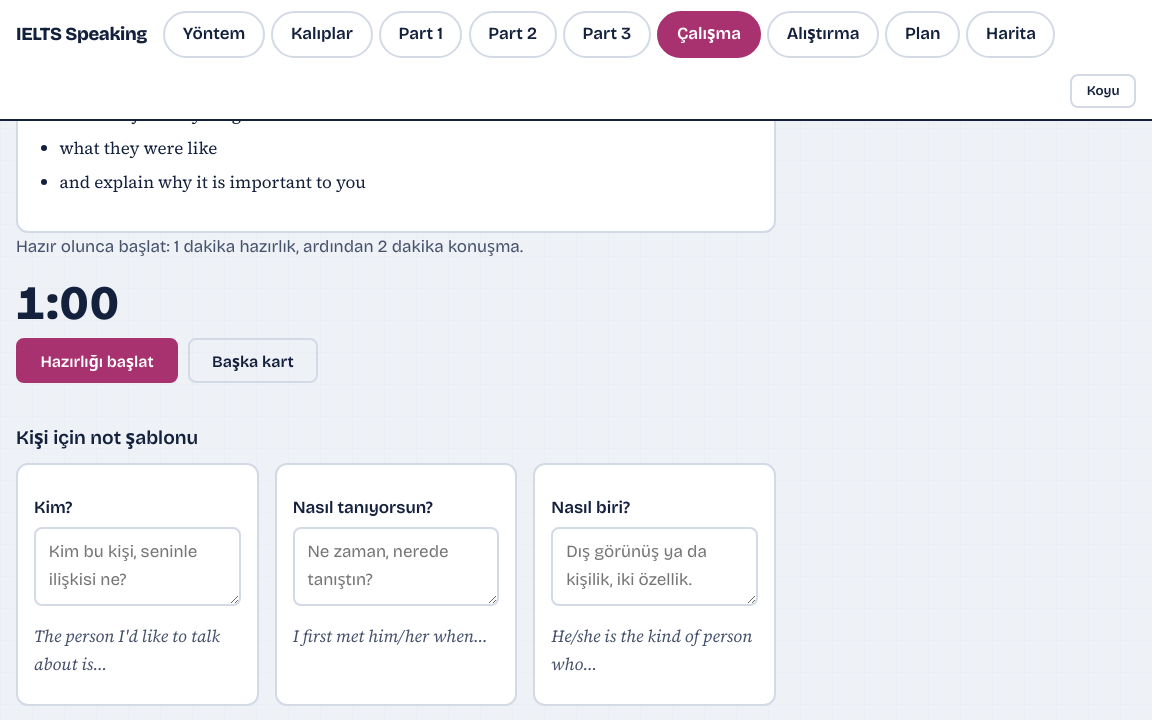
it: drill page › part 2: prep countdown moves into talking phase
The width and height of the screenshot is (1152, 720).
(page scrolled)
What coordinates should you click on to do the following:
click the button "Hazırlığı başlat"
I would click on:
 (97, 361)
Its box is [16,338,178,383].
Wait 61000 ms
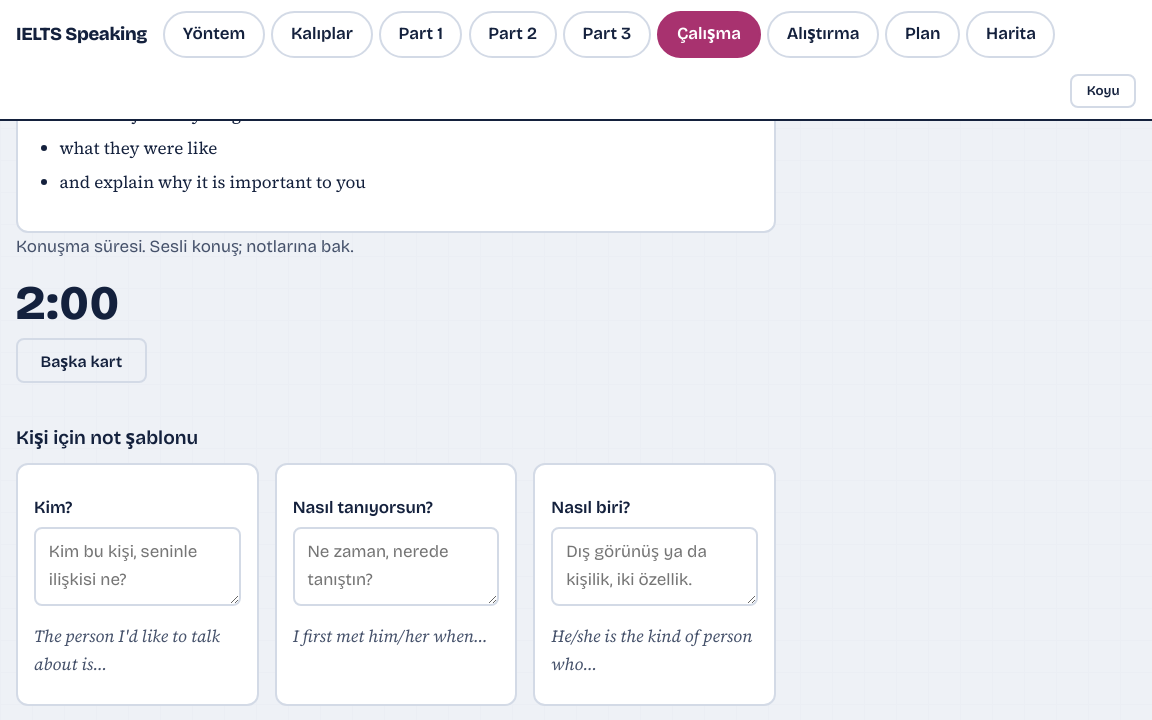
Now the text "Konuşma süresi. Sesli konuş; notlarına bak." is shown, box [16,236,354,257]
